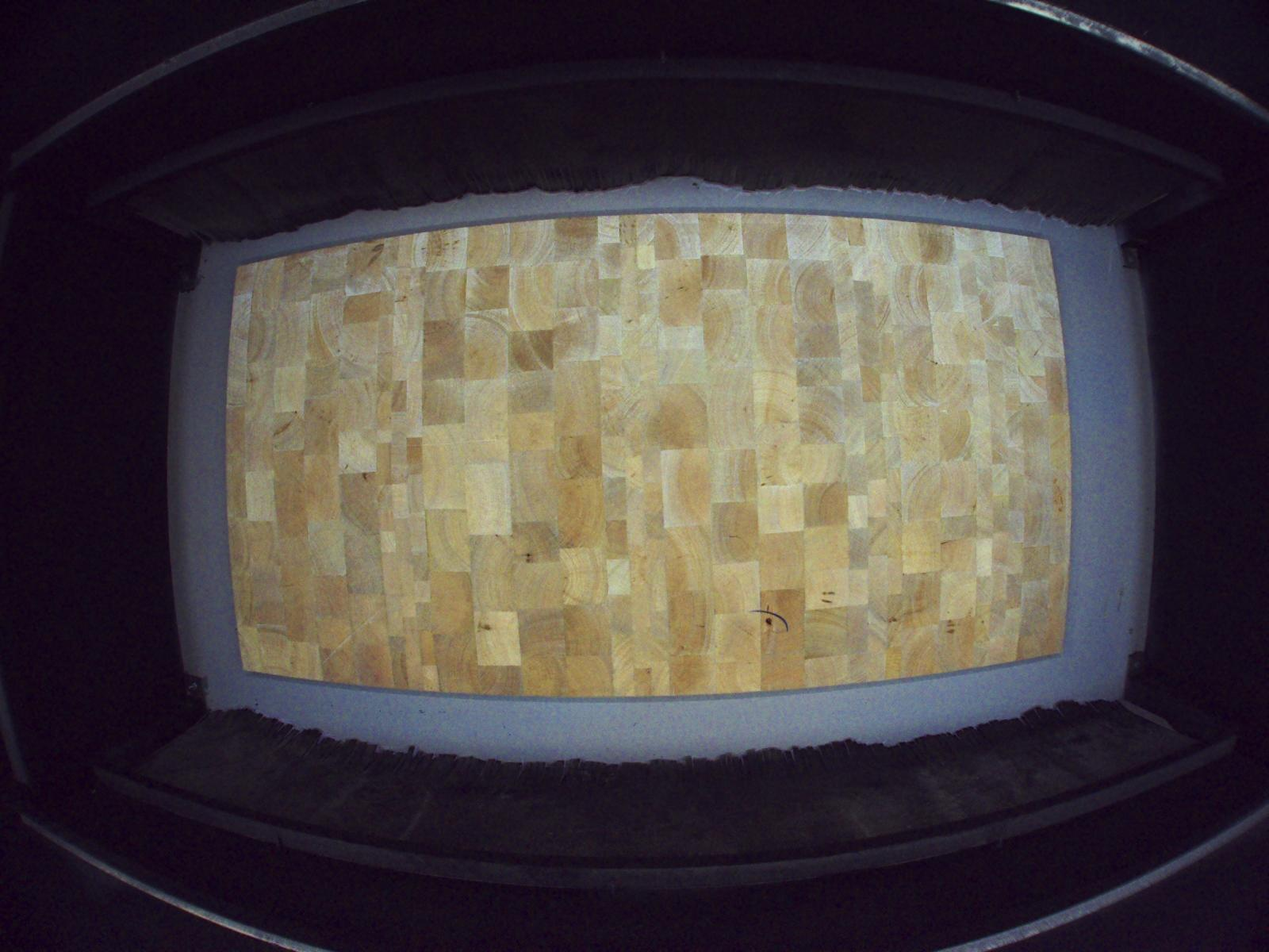nudillo: (764, 601, 775, 630)
